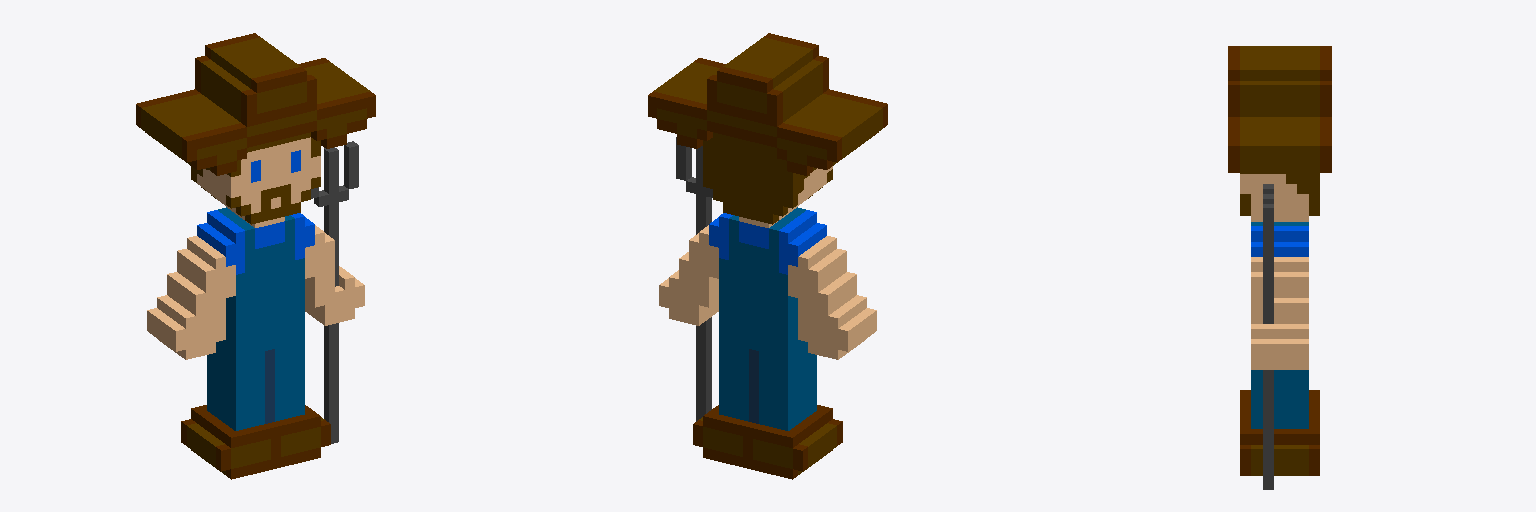
3 renders of one model, left to right at view 1: azimuth 30°, elevation 25°; view 2: azimuth 150°, elevation 25°; view 3: azimuth 270°, elevation 25°, orthographic.
Bounding box in the file's own units: 19 × 38 × 9.
1 materials, 1 textured.